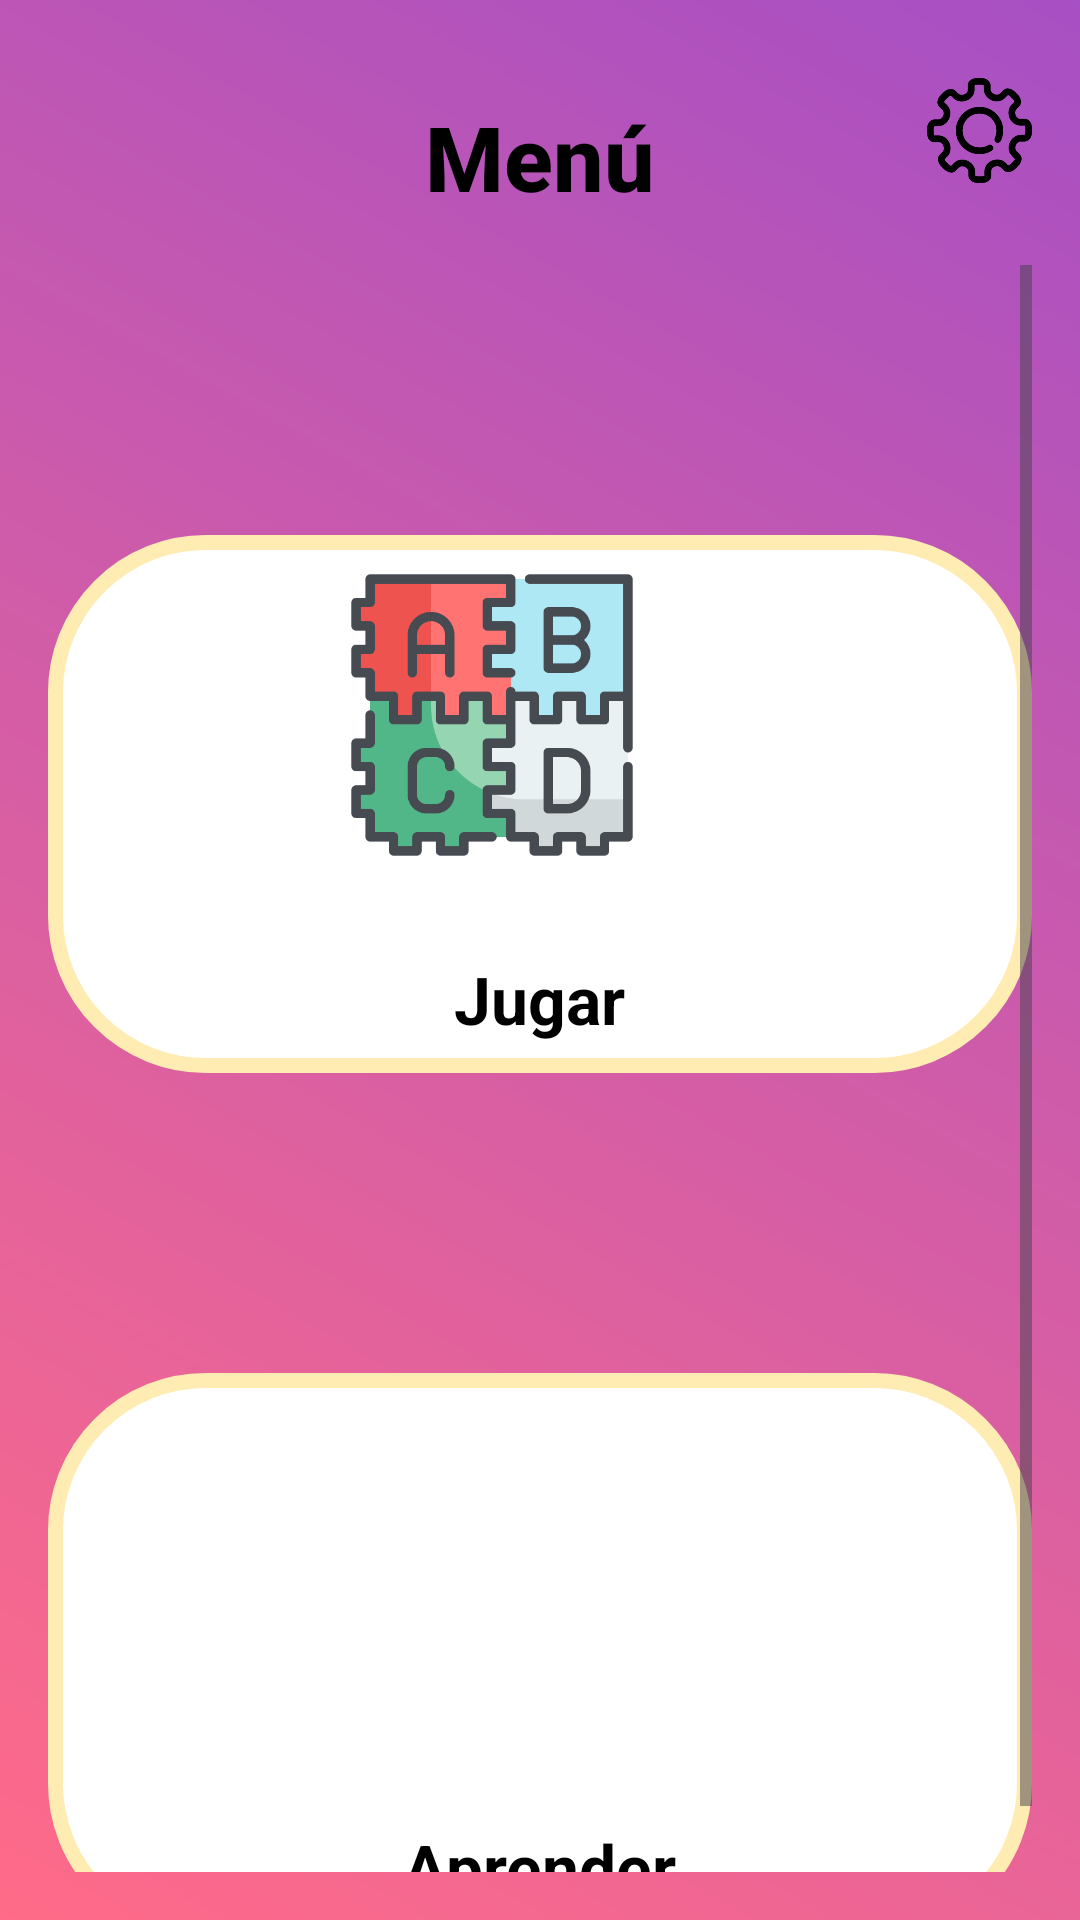

Icons on this 1080 x 1920 Android screen, each with the point to tap as [x,y]:
opciones: [979,130]
